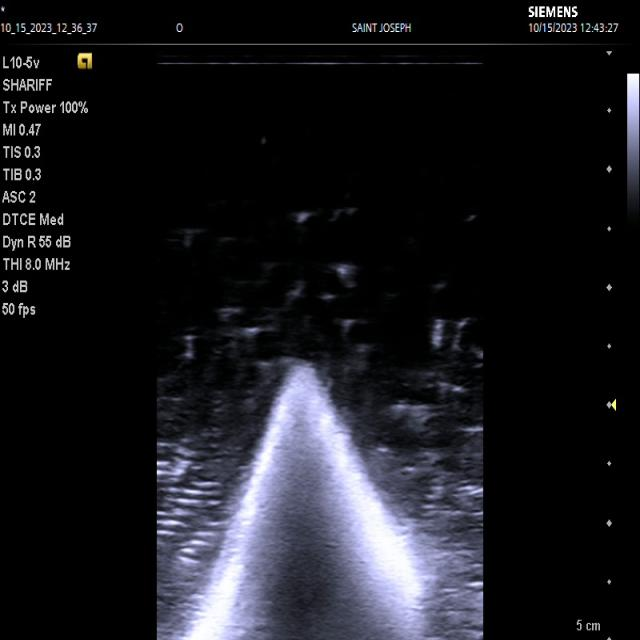tissue: (179, 362, 426, 640)
